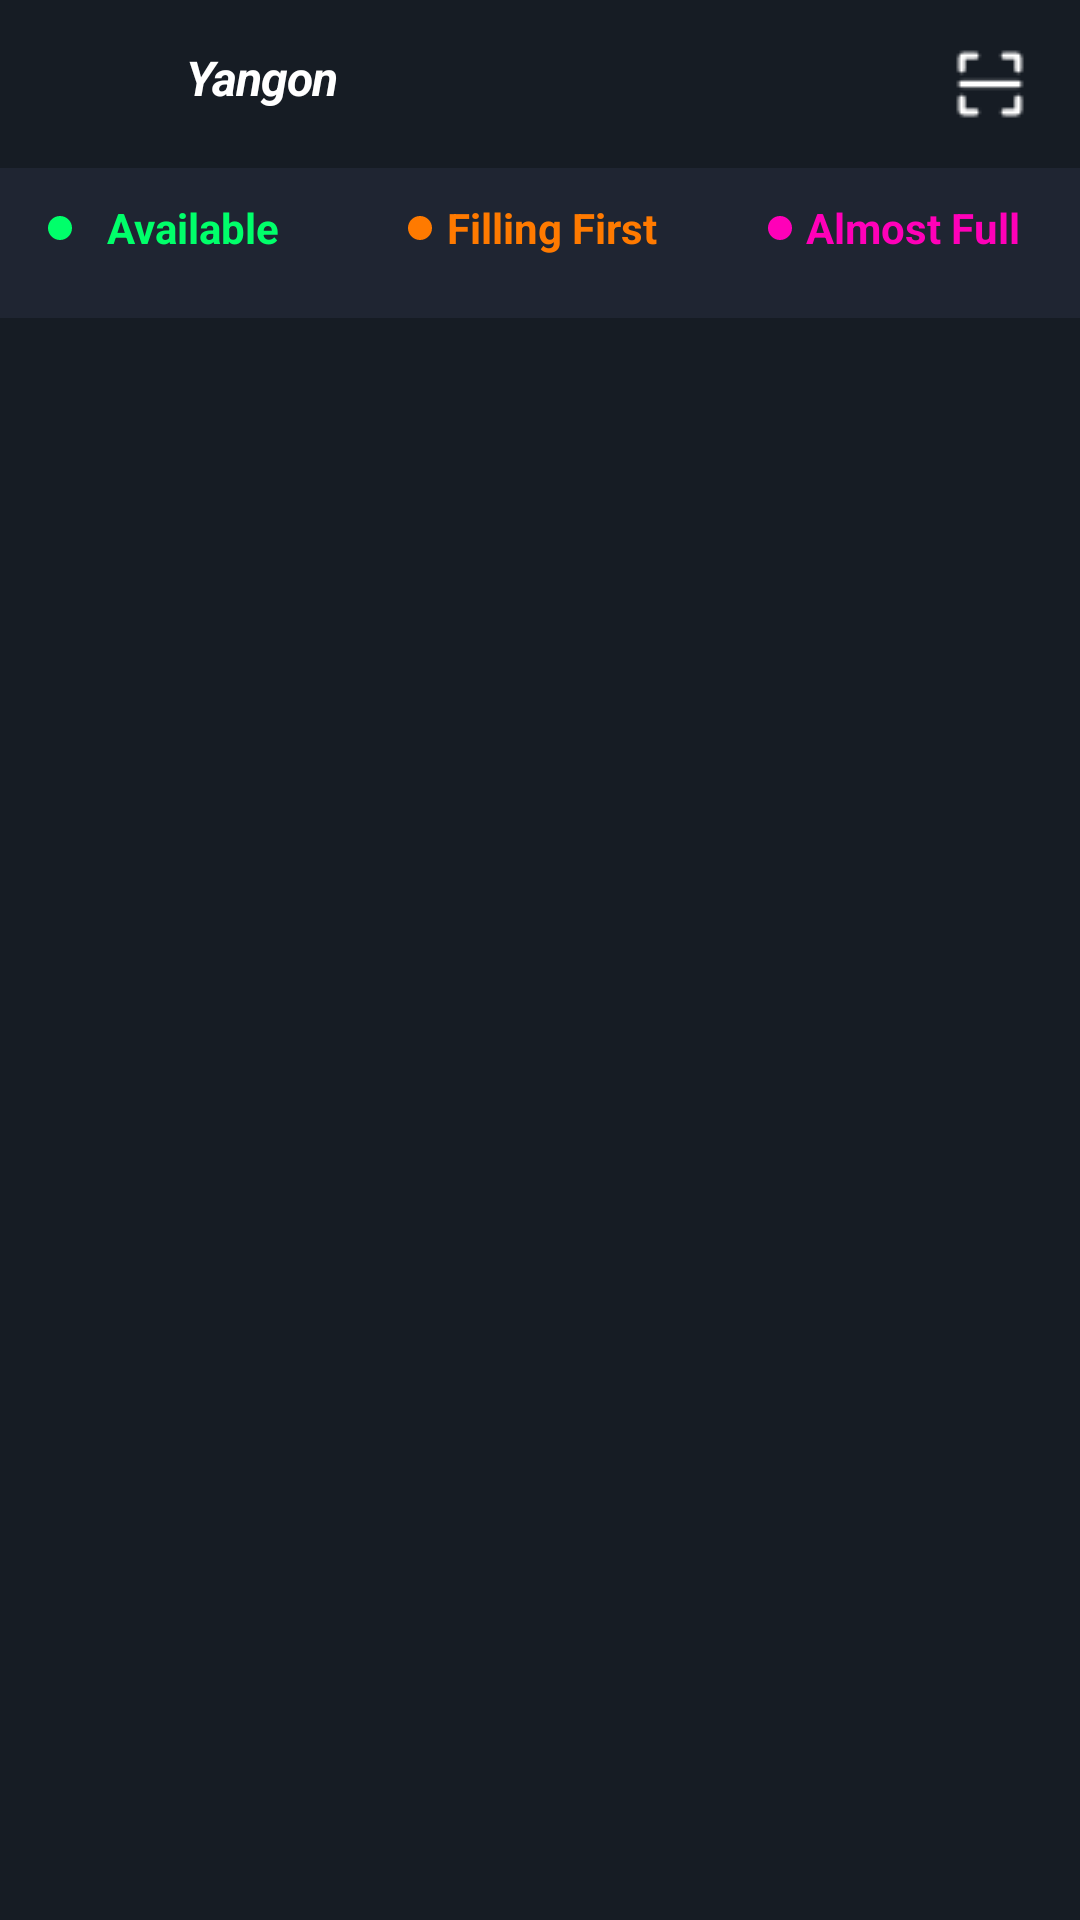

Point at icon controls on the screen. Image size 1080×1920, points as point (x, y).
scaner: point (990, 84)
